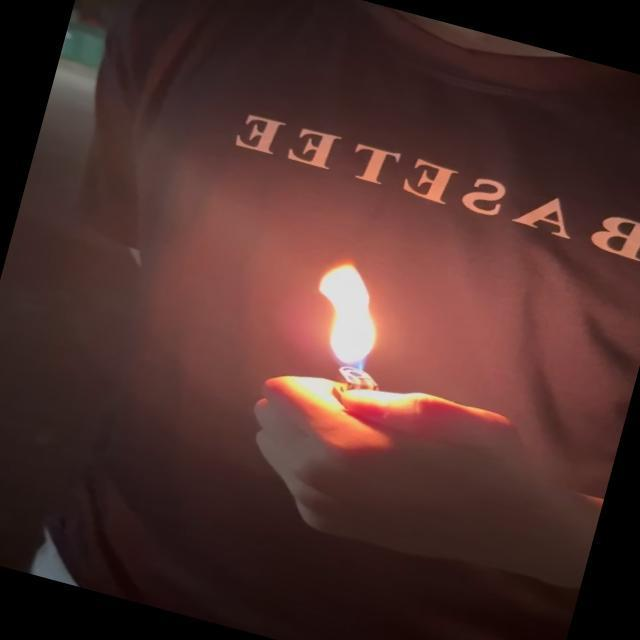Fire: (297, 252, 398, 380)
